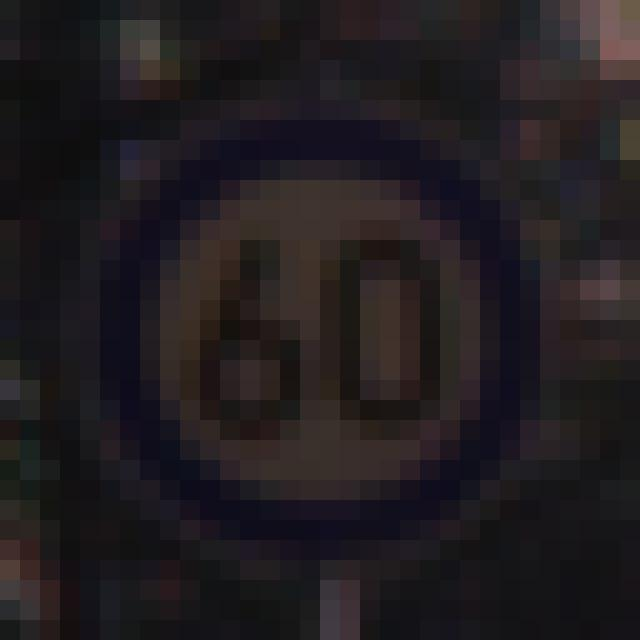SPEED-LIMIT-60: (114, 132, 516, 540)
